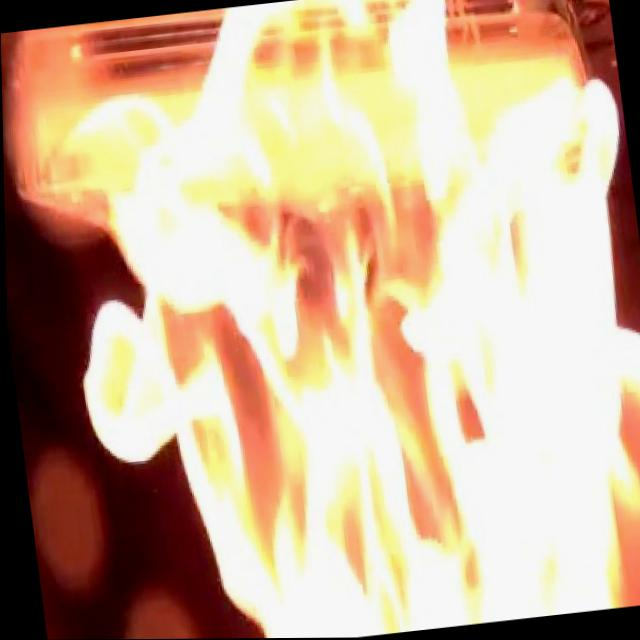Fire: (18, 0, 640, 640)
